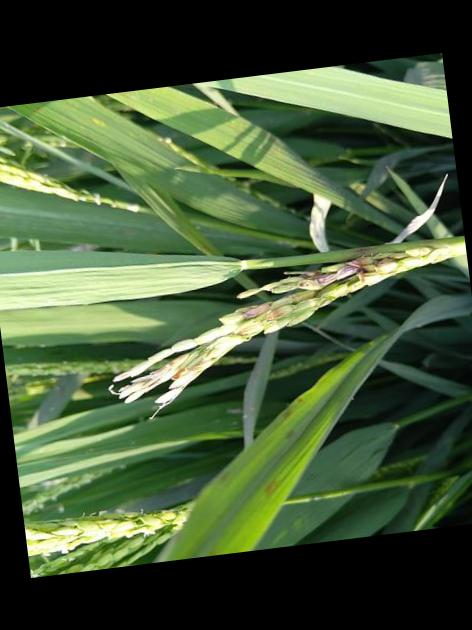Panicle Blight: (112, 347, 211, 403), (298, 253, 398, 288), (243, 301, 273, 317), (265, 307, 282, 320)
